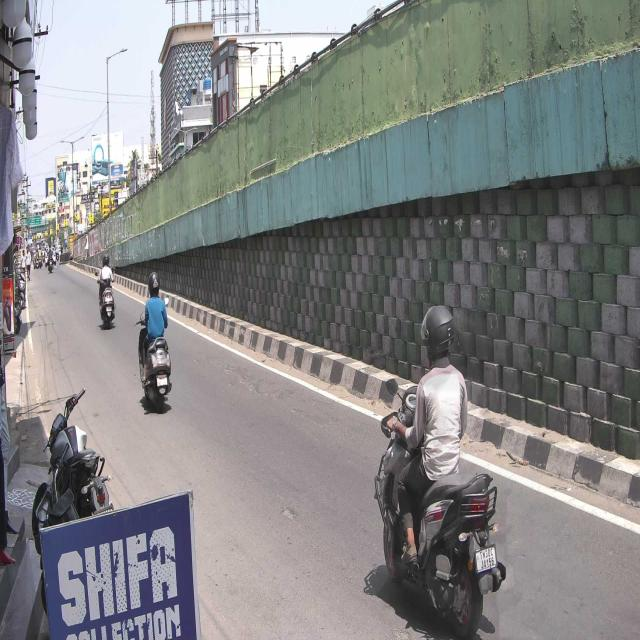single_rider: (377, 300, 508, 639), (135, 270, 173, 412)
